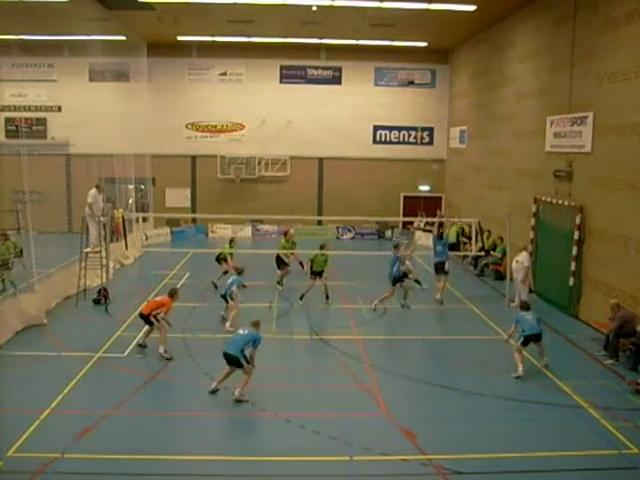Block: (423, 205, 458, 310)
Player: (209, 320, 262, 403), (505, 300, 547, 378), (137, 287, 178, 360), (371, 242, 408, 310), (299, 243, 329, 303), (275, 229, 304, 288), (220, 266, 245, 331), (211, 237, 235, 289), (432, 227, 448, 304), (404, 227, 424, 288)
